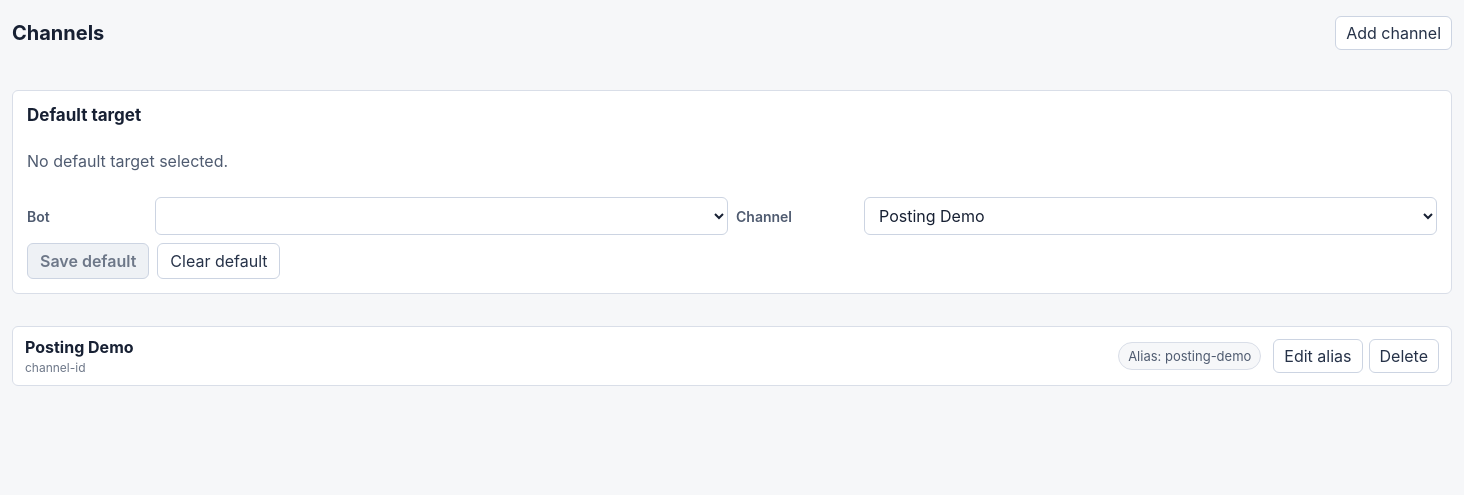
Test: TargetsPage › renames a channel alias
Step 1. Click the button with aria-label "Edit alias posting-demo" → (1318, 356), box [1273,339,1362,373]
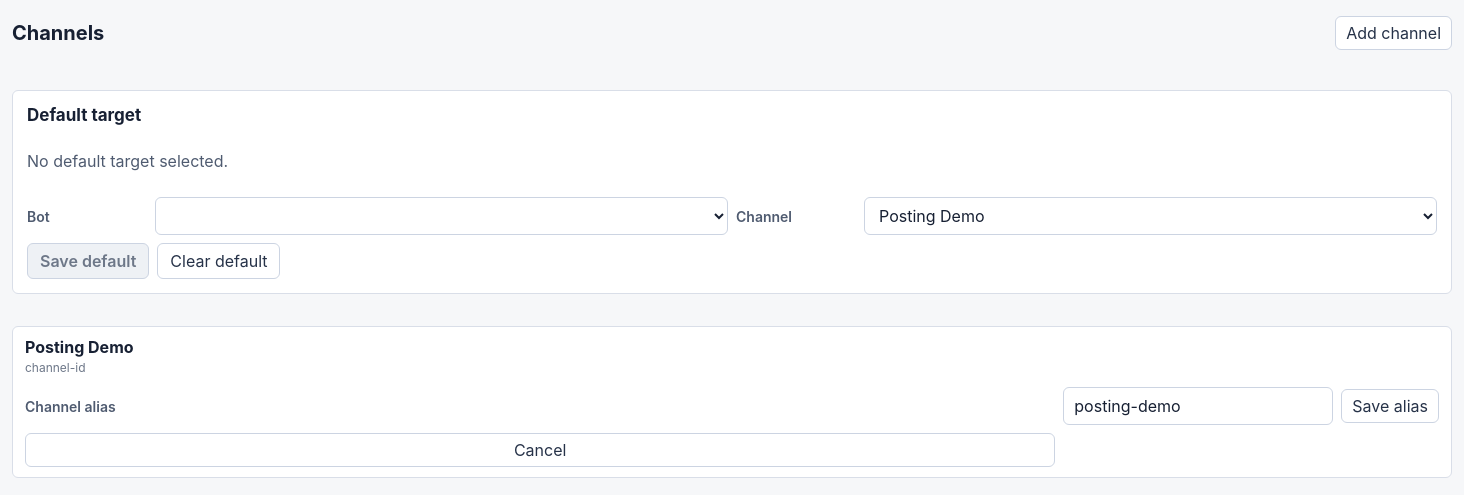
Step 2. Replace the text in the field labelled "Channel alias" with "announcements" → (1198, 406), box [1063,387,1333,425]
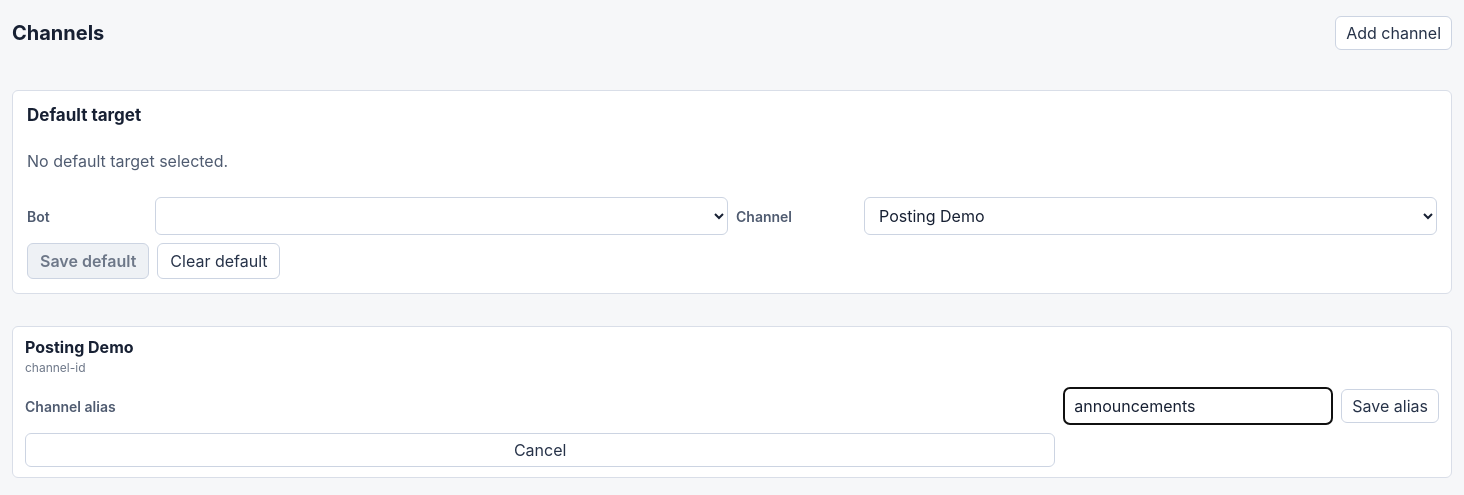
Step 3. Click the button "Save alias" → (1390, 406), box [1341,389,1439,423]
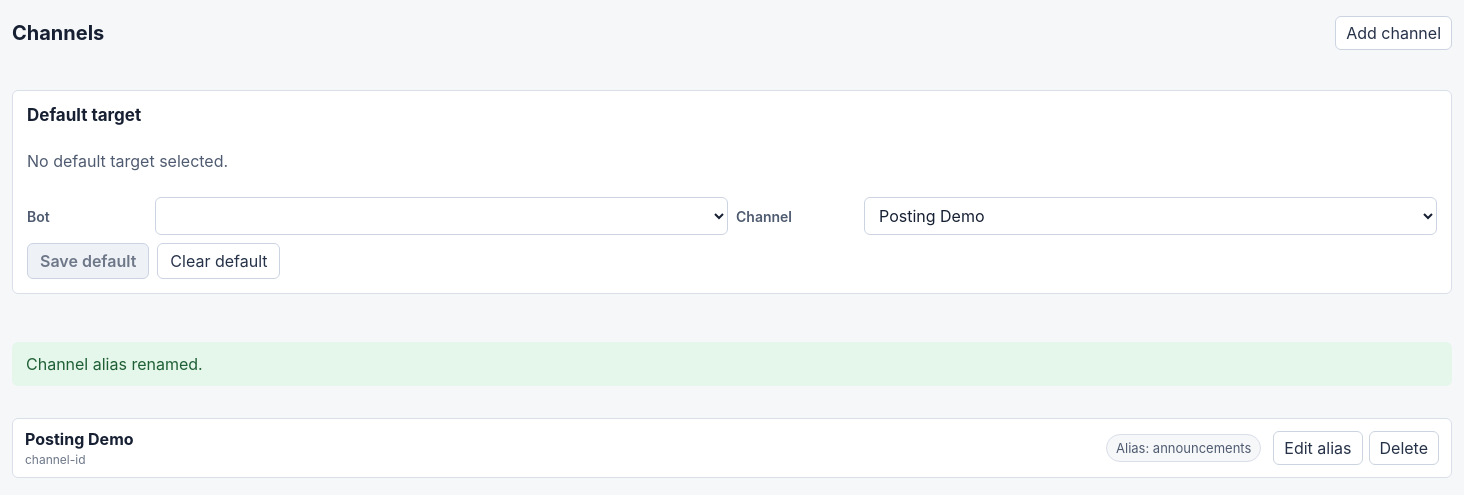
Expected: the message reads "Channel alias renamed.", [26,354,203,374]
